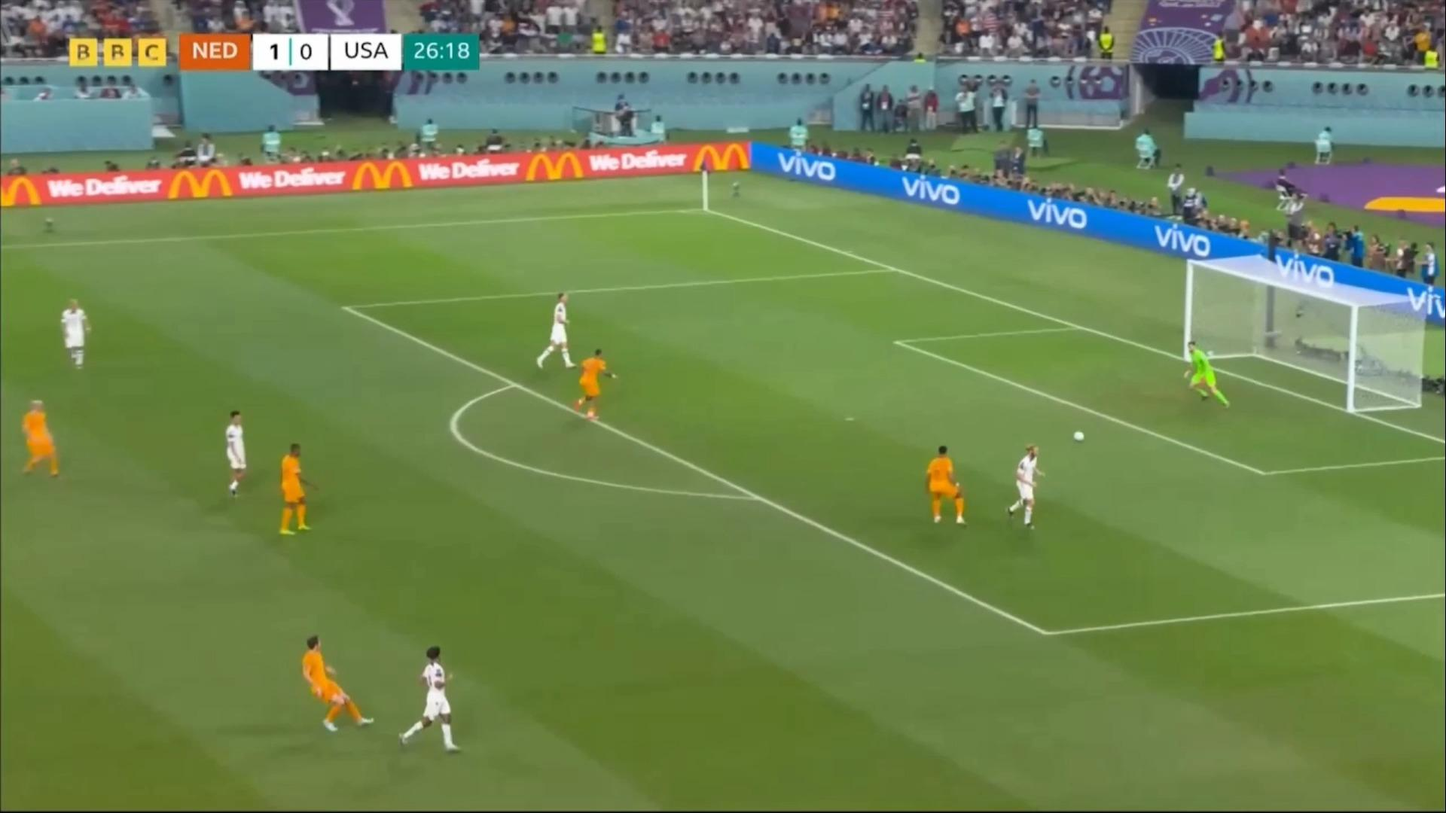Ball: (1074, 430, 1088, 443)
Player: (386, 642, 465, 757), (294, 636, 370, 739), (270, 441, 320, 538), (917, 442, 971, 529), (15, 396, 68, 484), (1004, 441, 1052, 536), (215, 410, 257, 503), (537, 289, 580, 374), (569, 346, 616, 422), (56, 296, 97, 373), (1186, 341, 1229, 408)
